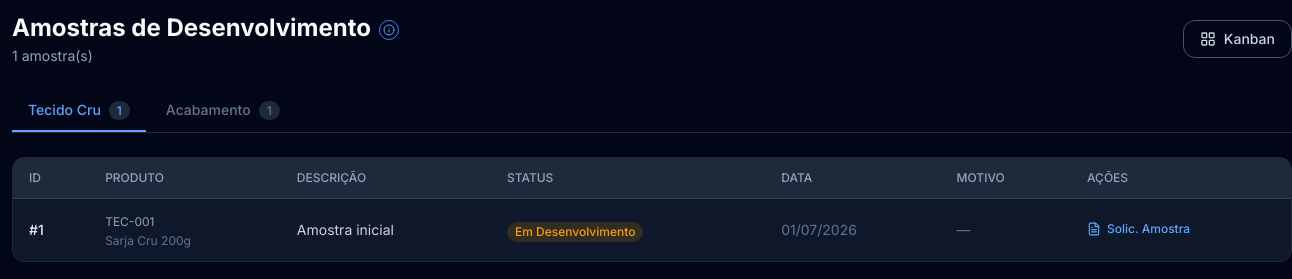
Test: AmostrasPage › alterna para a aba de acabamento
Check: the text "TEC-001" is shown, box [105,214,154,229]
Click the button "Acabamento1". click: (223, 111)
box: [150,90,296,132]
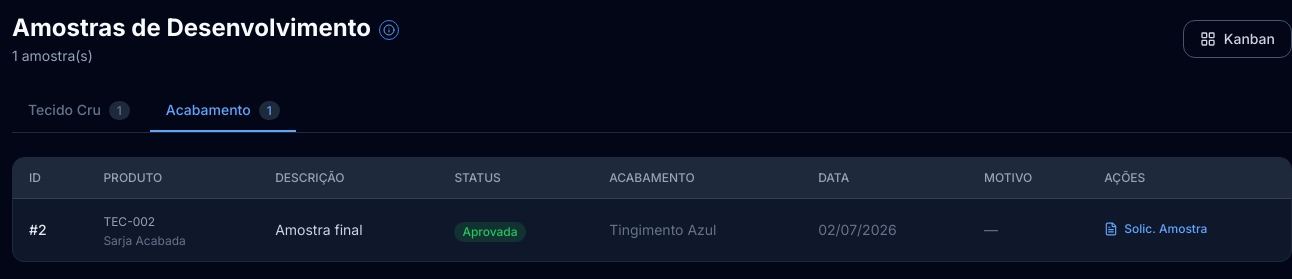
Check: the text "TEC-002" is shown, box [103,214,155,229]
Check: the text "Sarja Acabada" is shown, box [103,233,186,248]
Check: the text "Tingimento Azul" is shown, box [593,198,802,261]
